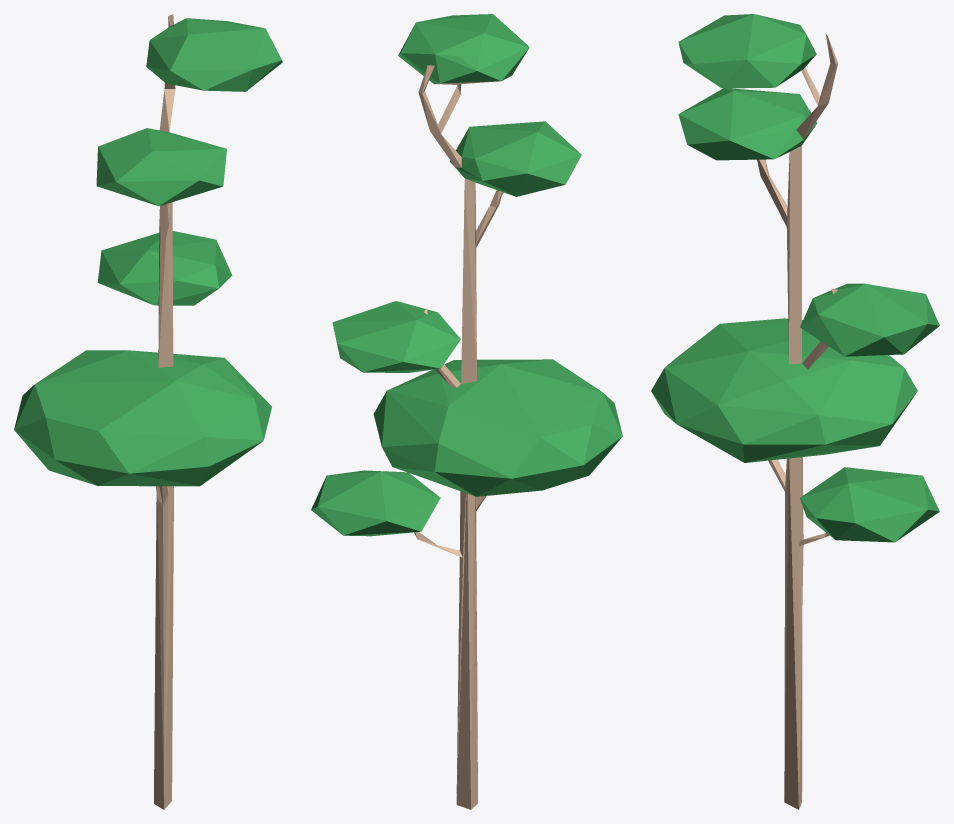
The model's file is tree34.fbx.
3 views of the same model, side by side, from view 1: azimuth 30°, elevation 25°; view 2: azimuth 150°, elevation 25°; view 3: azimuth 270°, elevation 25° (orthographic). The views are drawn at different scales.
Visible parts, largest first — view 1: treetype34; view 2: treetype34; view 3: treetype34.
Part boxes in pixels (x1,y1,x2,y2): treetype34: (14, 14, 282, 809); treetype34: (311, 14, 622, 809); treetype34: (651, 14, 939, 809).
Bounding box in the file's own units: 81.49 × 243 × 80.22.
